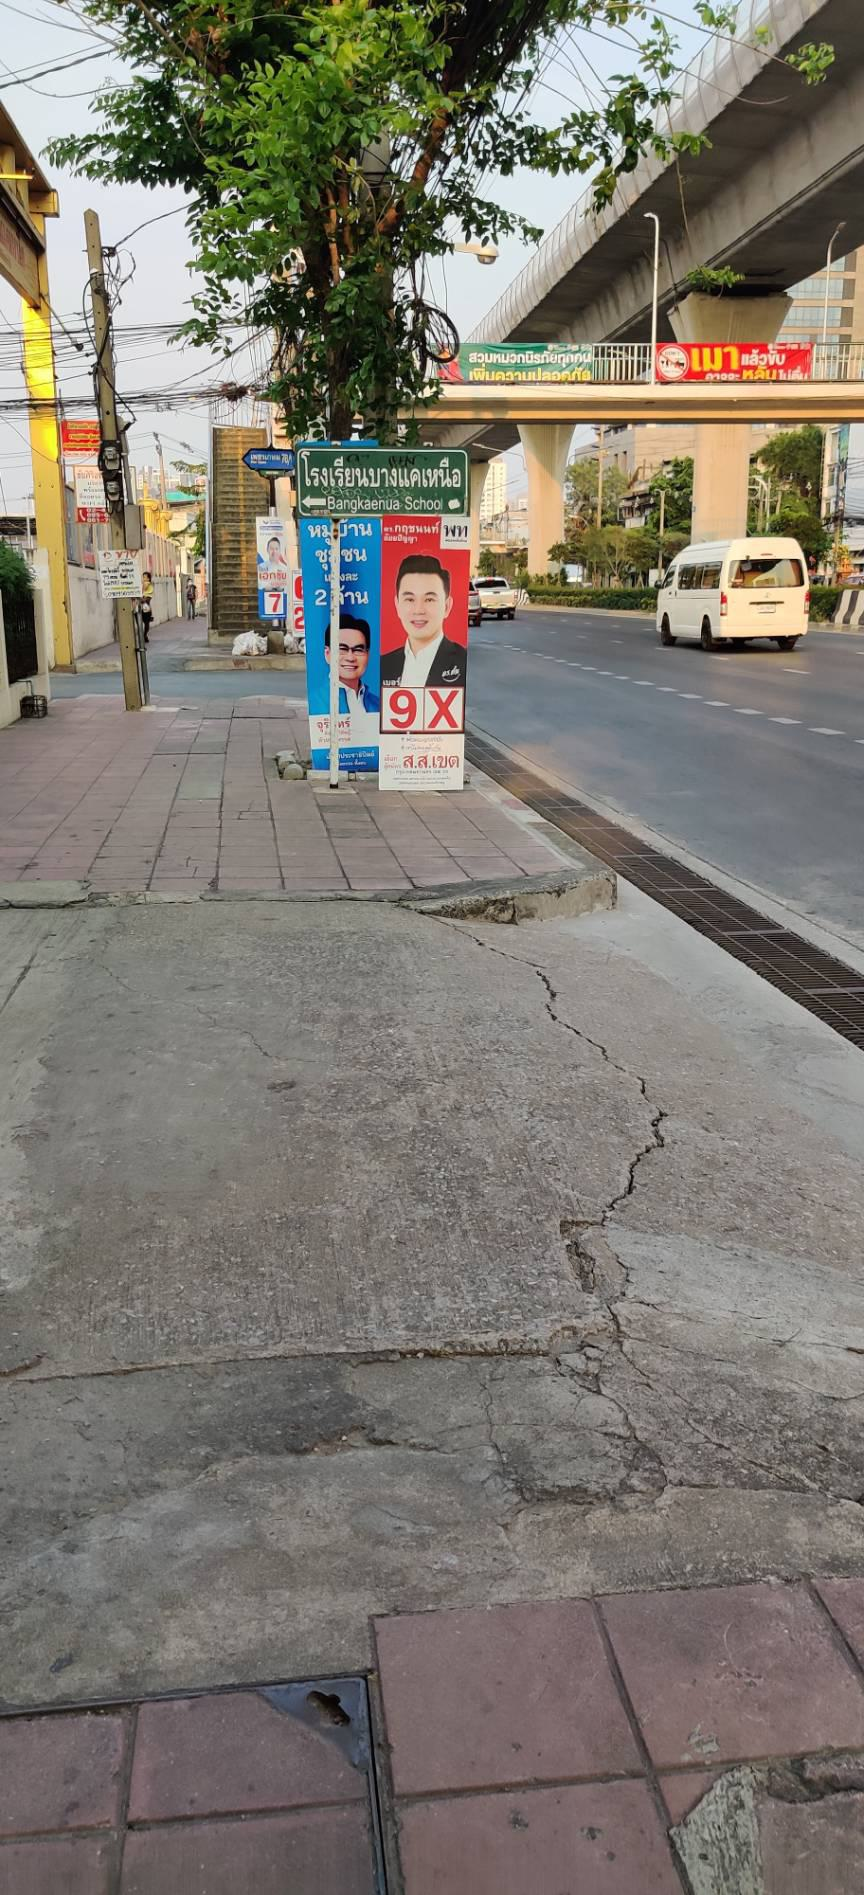Banner: (370, 510, 474, 801), (298, 518, 385, 780)
